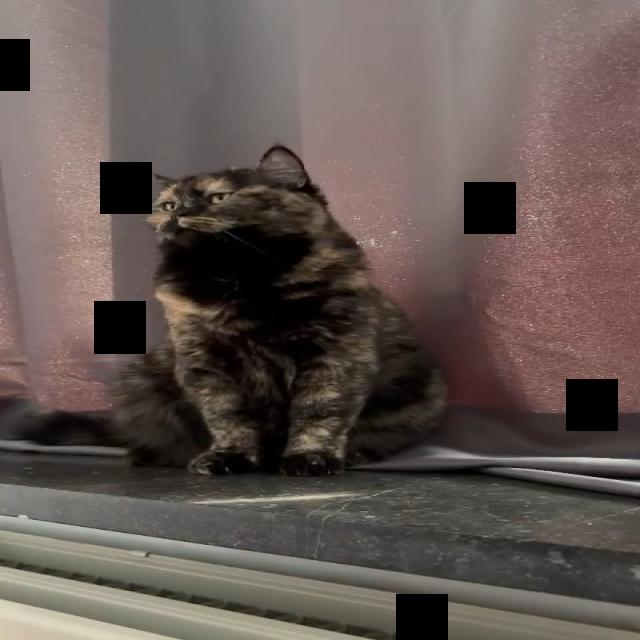authorized: (107, 143, 449, 477)
